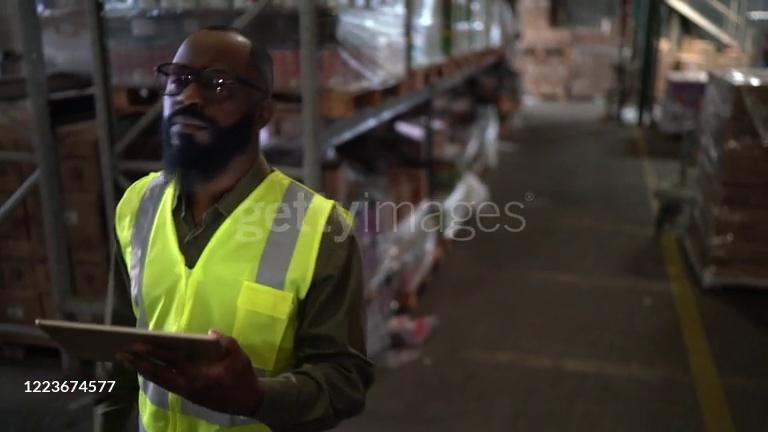person: (100, 24, 375, 432)
